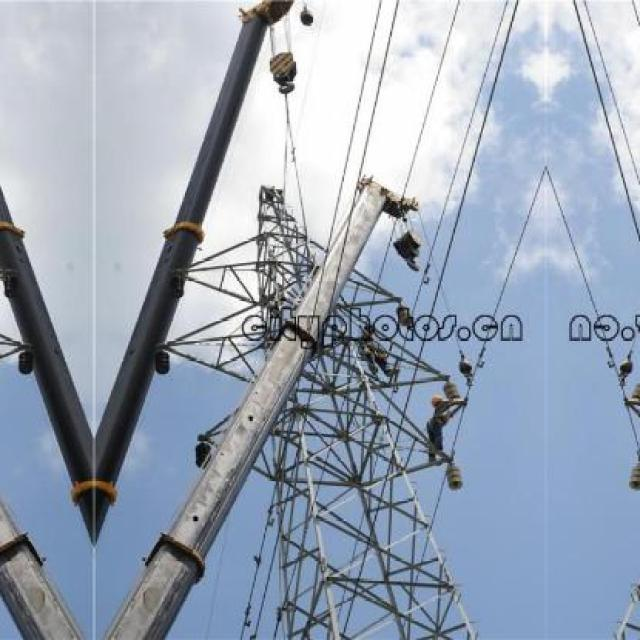helmet: (427, 393, 444, 410)
